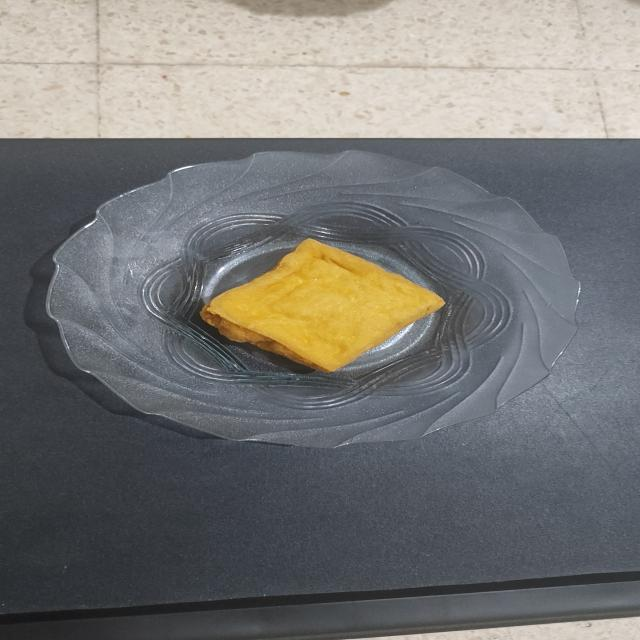tahu_goreng: (200, 239, 444, 372)
